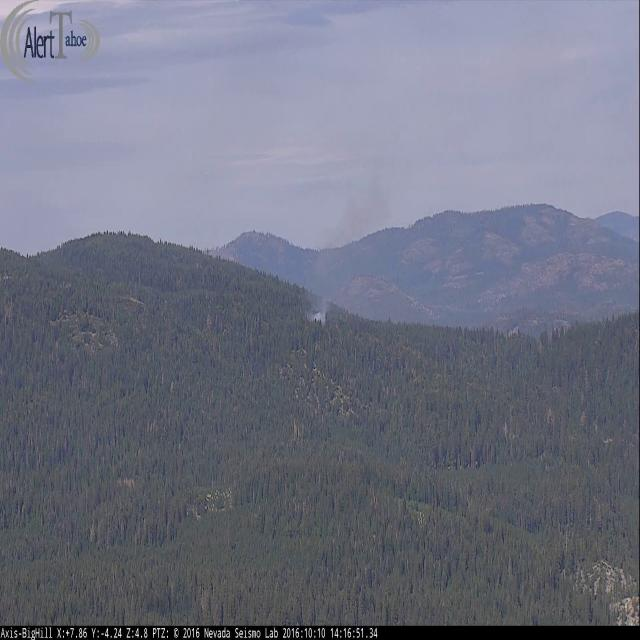smoke: (304, 149, 405, 331)
